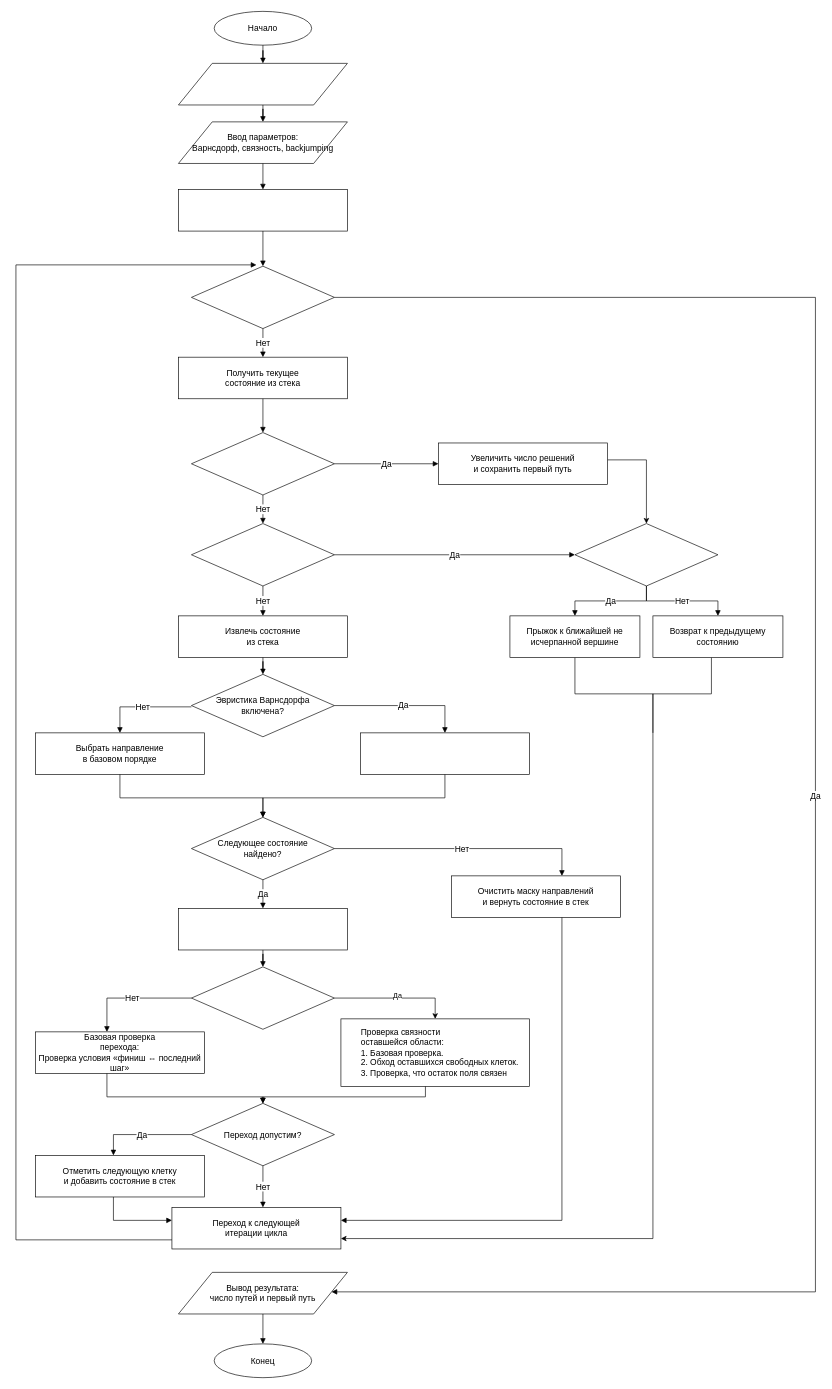
This 832x1389 diagram has some shape labels left out. Here are the shapes that lost their labels. From the top down, the centre of each, then its label:
At point 262,84: "Ввод поля: сетка, старт, финиш, стены".
At point 262,210: "Инициализация: создать стек, отметить старт".
At point 262,297: "Стек пуст?".
At point 262,463: "Финиш достигнут и посещены все клетки?".
At point 262,554: "Доступные направления закончились?".
At point 646,554: "Backjumping включён?".
At point 444,753: "Выбрать направление по Варнсдорфу".
At point 262,929: "Удалить выбранное направление и вернуть состояние в стек".
At point 262,997: "Отсечение по связности включено?".
